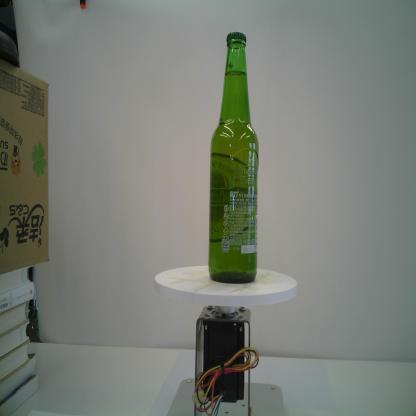Alcohol: (206, 30, 260, 285)
